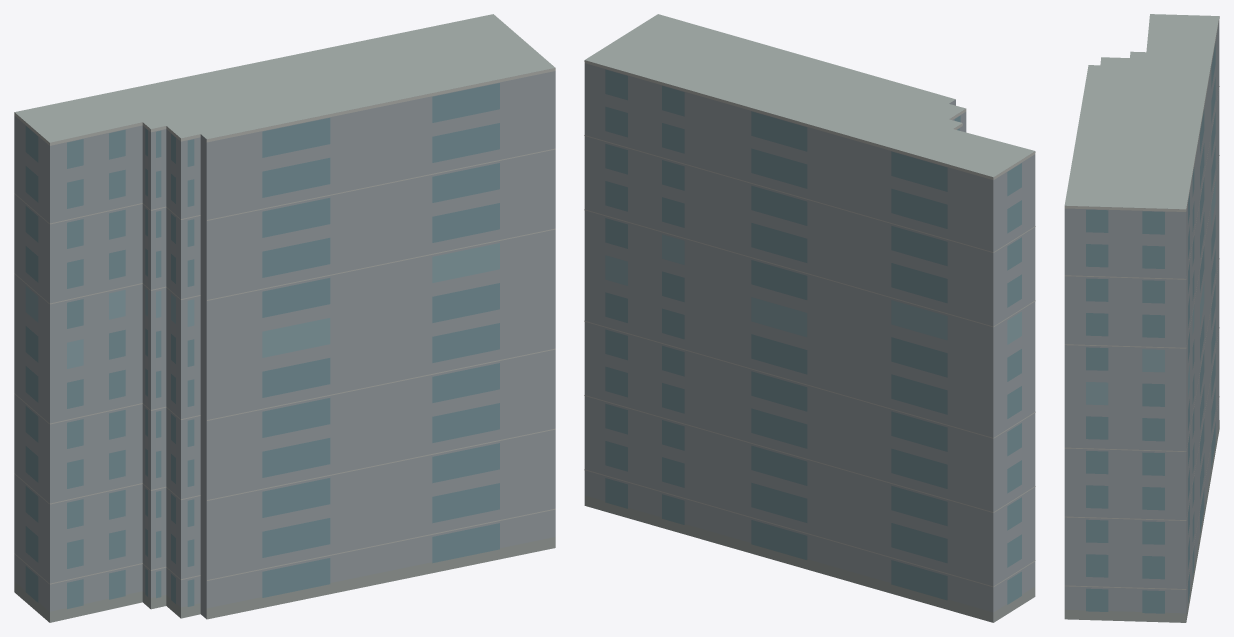
Rendered from survey-upis-32764761.glb.
The picture shows the model from 3 angles, left to right: view 1: azimuth 30°, elevation 25°; view 2: azimuth 150°, elevation 25°; view 3: azimuth 270°, elevation 25°; orthographic projection. The views are drawn at different scales.
Parts seen in each view (by area): view 1: survey-upis-32764761.tmp; view 2: survey-upis-32764761.tmp; view 3: survey-upis-32764761.tmp.
Boxes of the visible parts, box(x1,y1,x2,y2) form: survey-upis-32764761.tmp: box(14, 14, 555, 622); survey-upis-32764761.tmp: box(584, 14, 1035, 622); survey-upis-32764761.tmp: box(1064, 14, 1219, 622).
Size of the model in its own units: 37.1 by 36.6 by 12.45.
